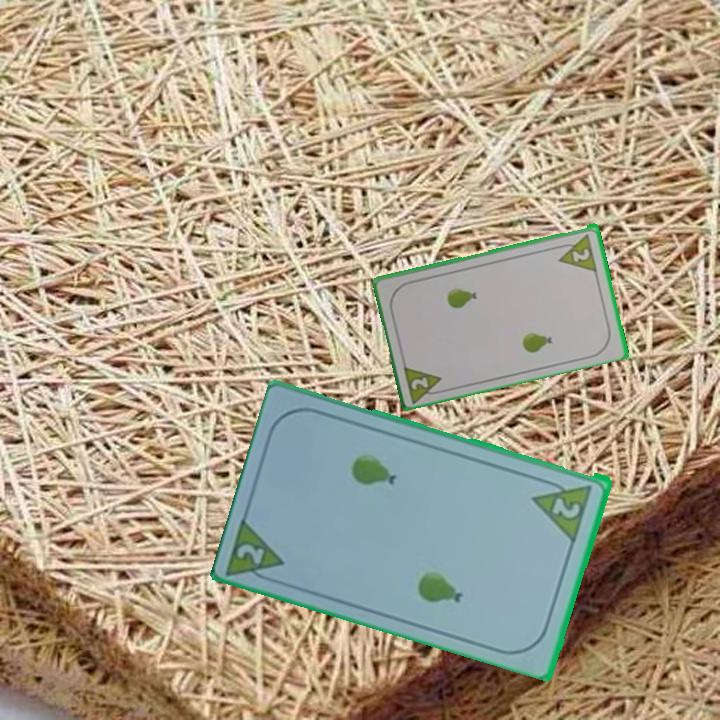2p: (224, 511, 288, 587), (530, 473, 596, 542), (400, 360, 448, 404), (553, 230, 600, 273)
